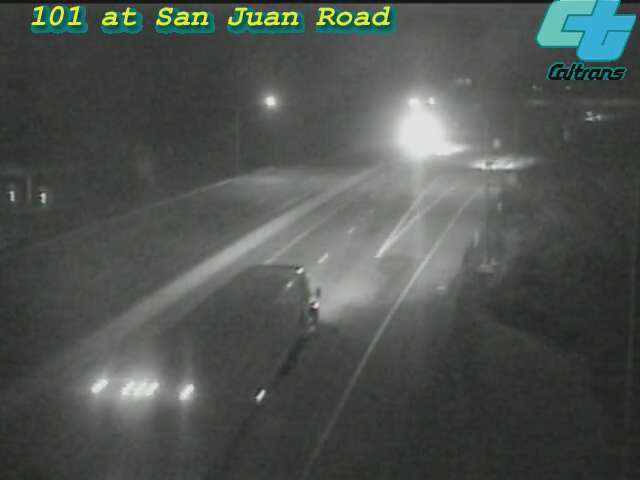vehicle: (180, 283, 290, 393), (446, 127, 526, 207), (392, 107, 442, 157), (569, 91, 619, 141), (425, 122, 475, 172)
